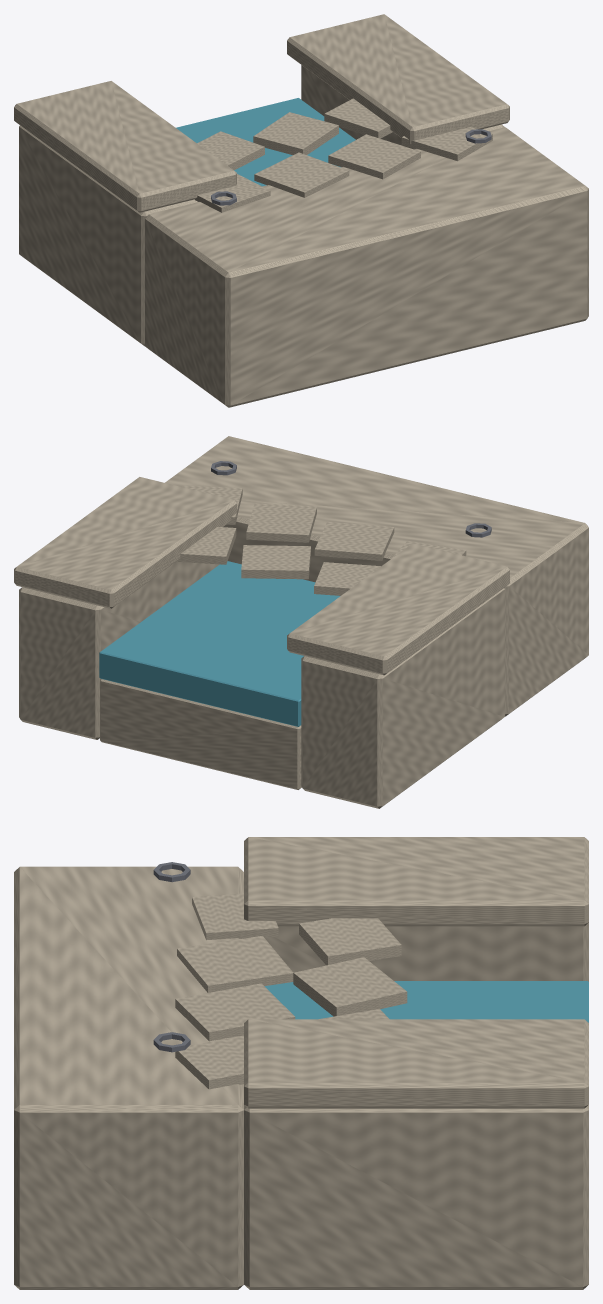
File: fantasy-mmo-city-and-townsfolk-canal-bank-tile-4bb312da__32723.glb
3 renders of one model, top to bottom at view 1: azimuth 30°, elevation 25°; view 2: azimuth 150°, elevation 25°; view 3: azimuth 270°, elevation 25°, orthographic. The views are drawn at different scales.
Visible parts, largest first — view 1: canal-bank-tile; view 2: canal-bank-tile; view 3: canal-bank-tile.
Boxes of the visible parts, x1,y1,x2,y2 form: canal-bank-tile: (14,14,588,407); canal-bank-tile: (14,436,588,808); canal-bank-tile: (14,837,588,1289).
Size of the model in its own units: 4.1 by 1.66 by 4.
Materials: 3 (1 with a texture image).
